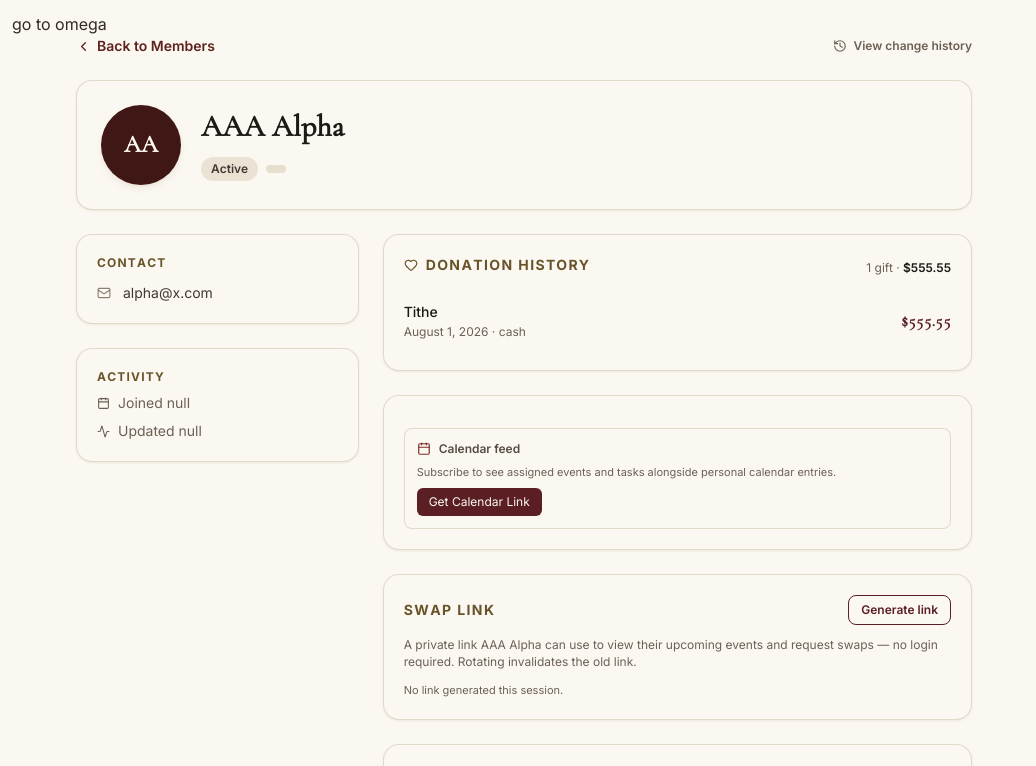
Test: the profile belongs to the id in the URL › does not keep Alpha's name on screen while Omega's profile is still in flight
Expected: the heading "AAA Alpha" is shown, left=201, top=108, right=344, bottom=145
Expected: the text "$555.55" next to "gift" is shown, left=903, top=260, right=951, bottom=275
What coordinates should you click on to do the following:
click the link "go to omega"
I would click on:
 (59, 24)
Its box is left=12, top=14, right=107, bottom=34.
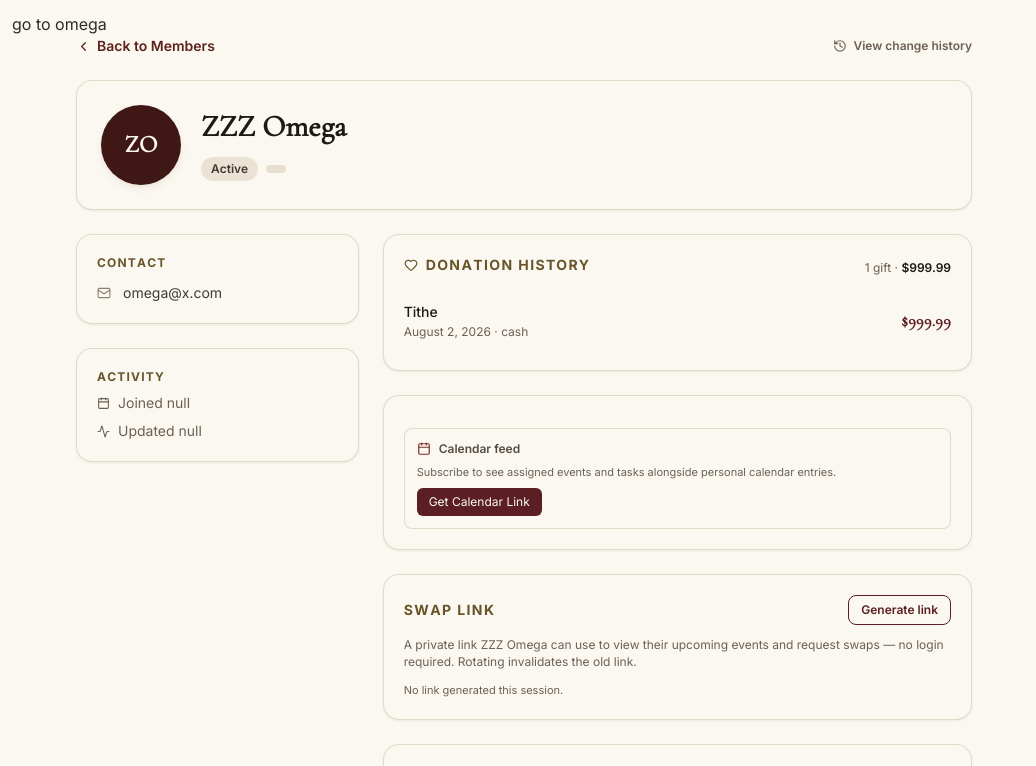
Expected: the heading "ZZZ Omega" is shown, left=201, top=108, right=347, bottom=145
Expected: the text "$999.99" next to "gift" is shown, left=902, top=260, right=951, bottom=275
Expected: the heading "AAA Alpha" is gone
